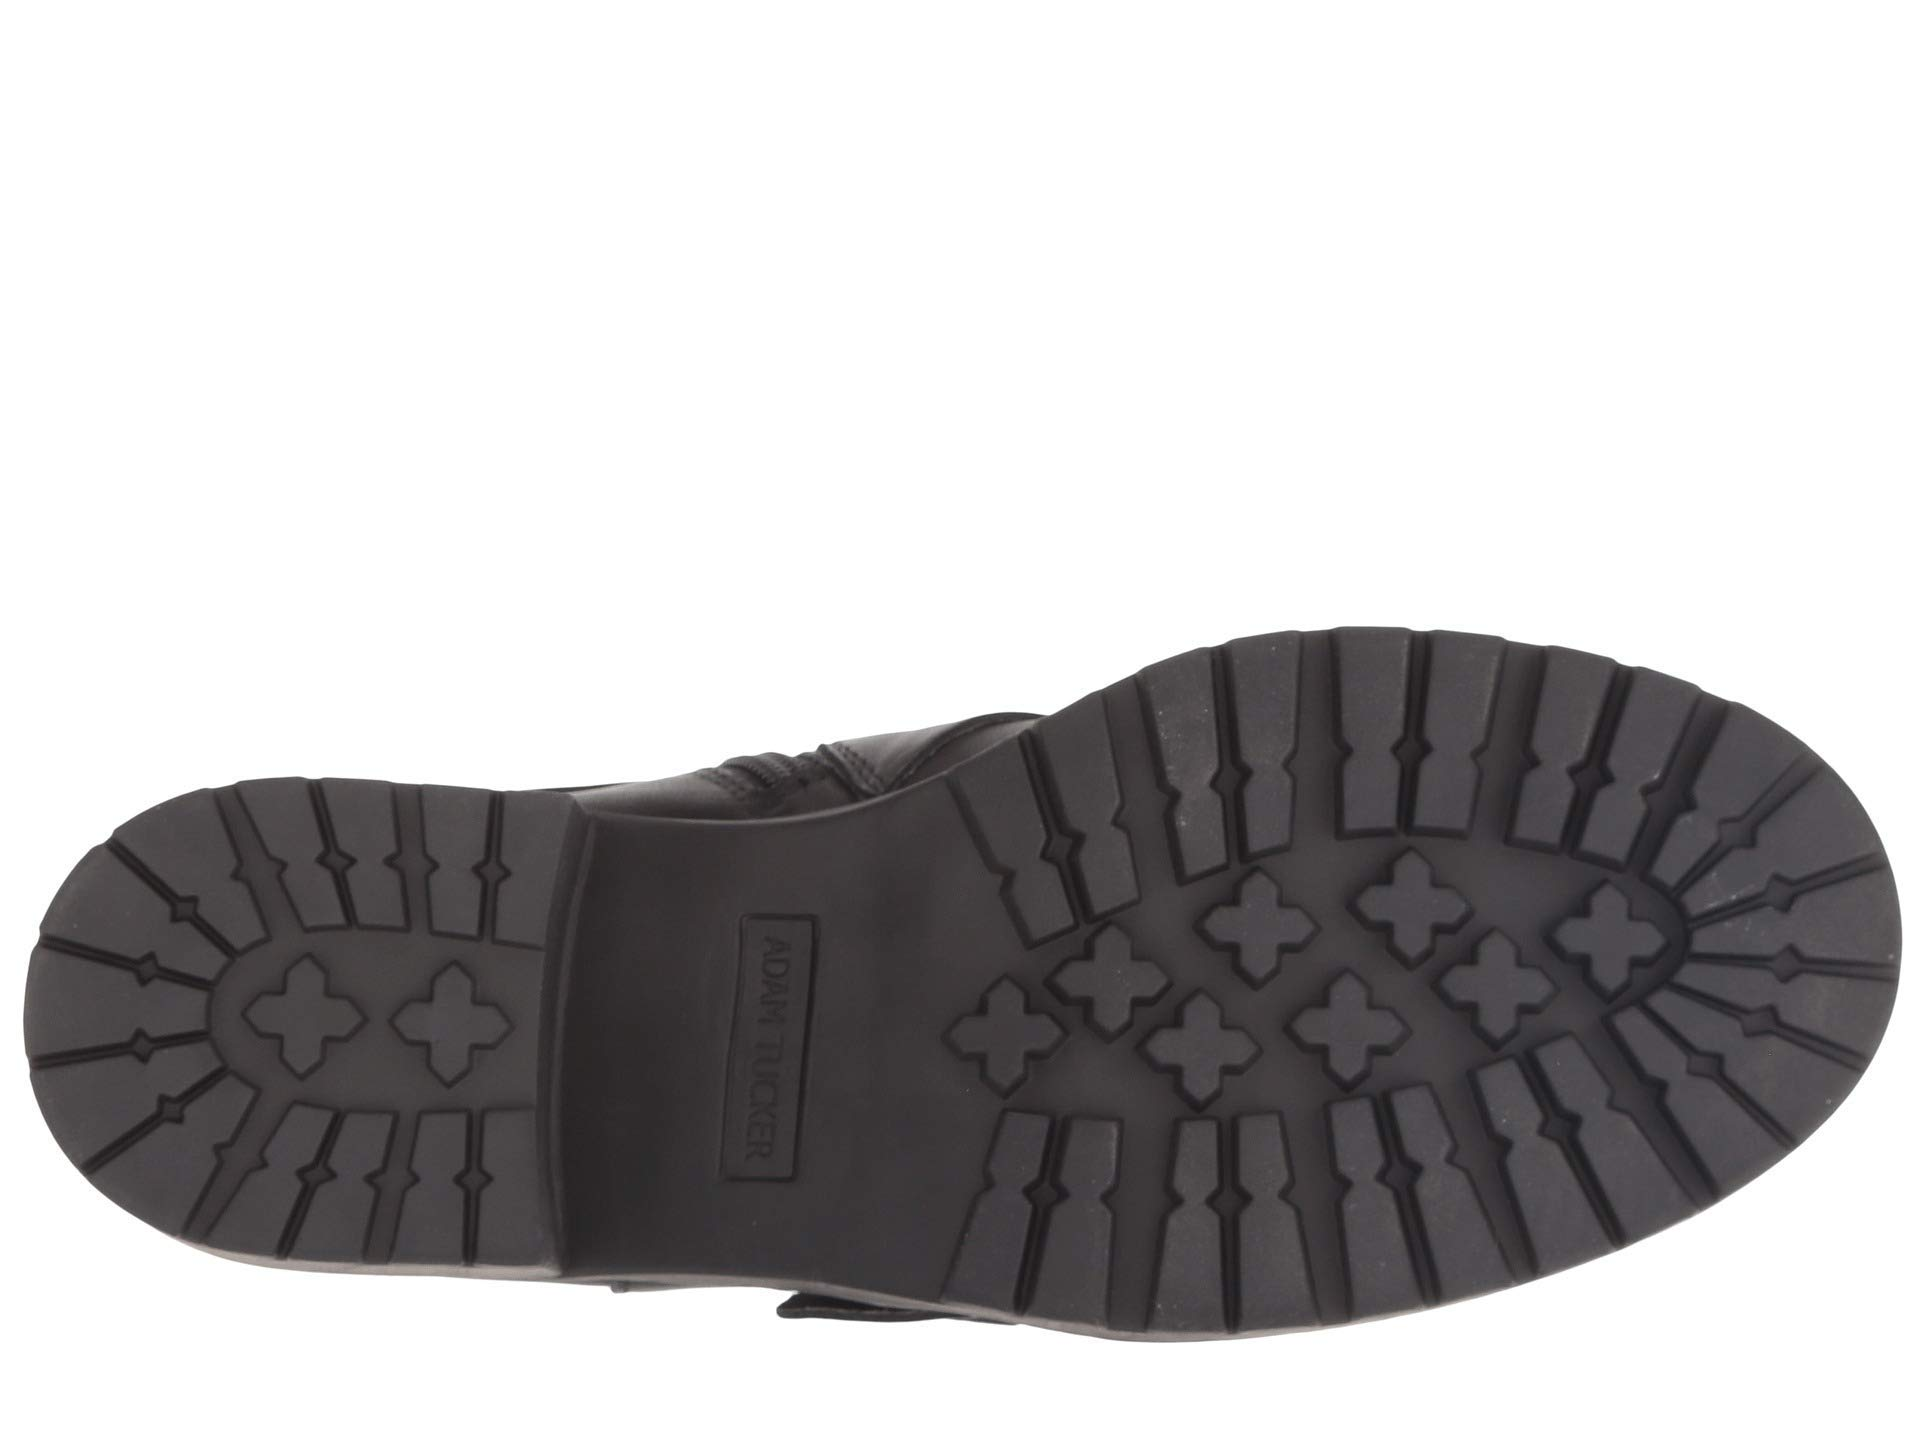bowtie: (1599, 641, 1909, 983), (1132, 1095, 1418, 1370), (1281, 601, 1516, 861), (11, 803, 255, 1050), (401, 771, 600, 979), (405, 1095, 571, 1296)
other: (141, 791, 565, 1172), (1155, 629, 1652, 836)
quad: (624, 867, 937, 1240)
star: (141, 791, 565, 1172), (1191, 861, 1566, 1086), (986, 897, 1172, 1088), (218, 932, 386, 1116)
text: (624, 867, 937, 1240)
